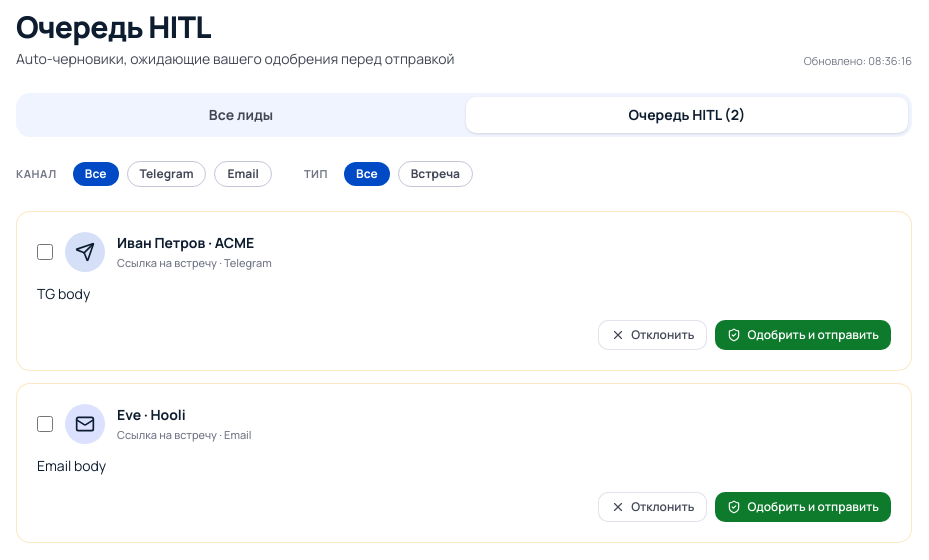
InboxPendingPage › channel filter hides rows from the unselected channel
Expected: the text "TG body" is shown, [37,284,90,303]
Expected: the text "Email body" is shown, [37,456,106,475]
Click the button "Telegram". click: (167,174)
box: [127,161,206,187]
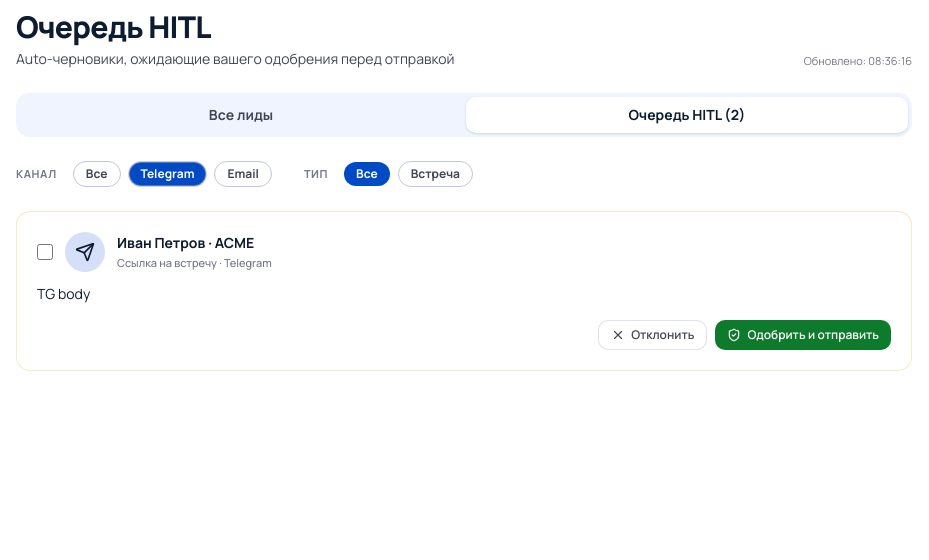
Expected: the text "TG body" is shown, [37,284,90,303]
Now the text "Email body" is gone
